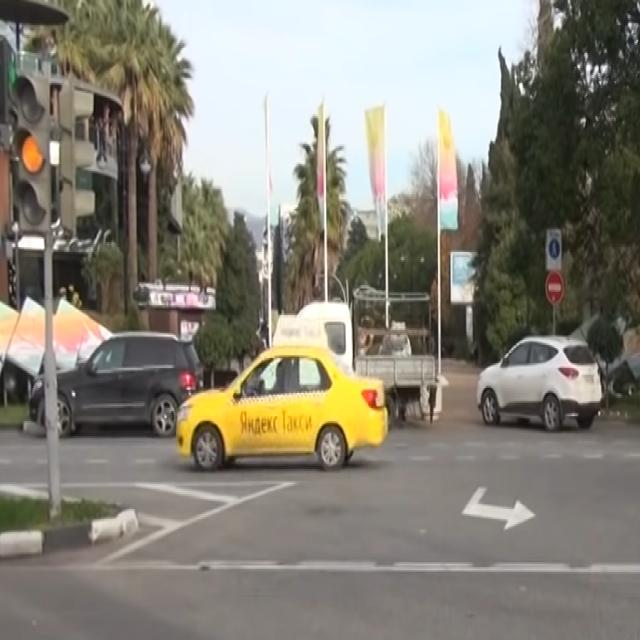non emergency car: (174, 340, 391, 472), (32, 327, 208, 441), (474, 331, 604, 438)
